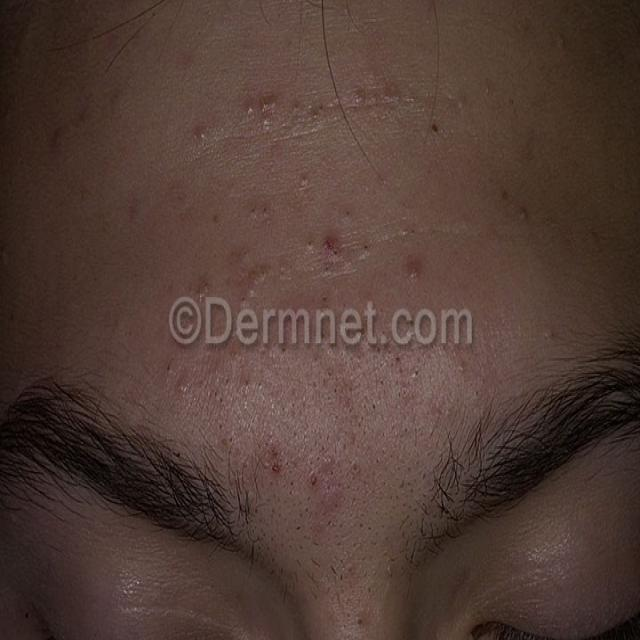Acne: (244, 87, 279, 139), (308, 461, 342, 512), (350, 84, 400, 114), (243, 261, 271, 302), (266, 442, 288, 481), (404, 253, 428, 288), (321, 230, 344, 266), (246, 197, 273, 227), (297, 168, 319, 202), (172, 372, 194, 404), (195, 273, 216, 304), (512, 203, 535, 230), (192, 119, 212, 150)
